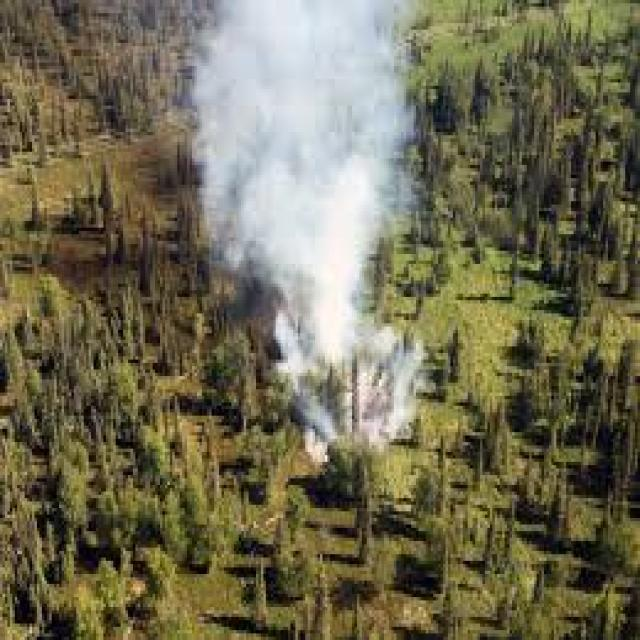Smoke: (189, 0, 427, 468)
